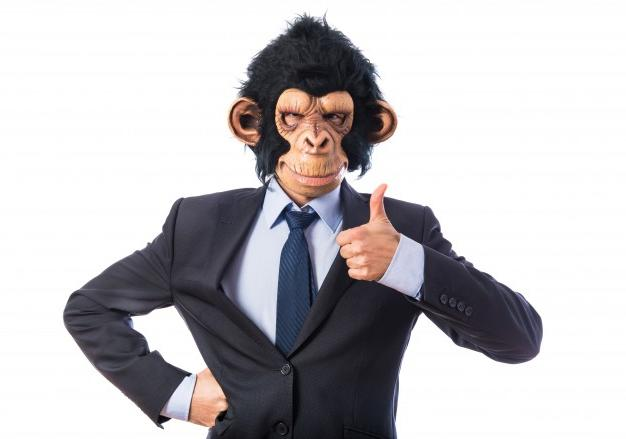thumbsup: (336, 182, 388, 281)
